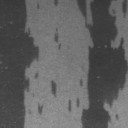red iron: (68, 0, 128, 128), (0, 0, 39, 128), (54, 32, 62, 50), (51, 80, 57, 96), (38, 102, 44, 114), (53, 0, 60, 6), (36, 2, 40, 10)
